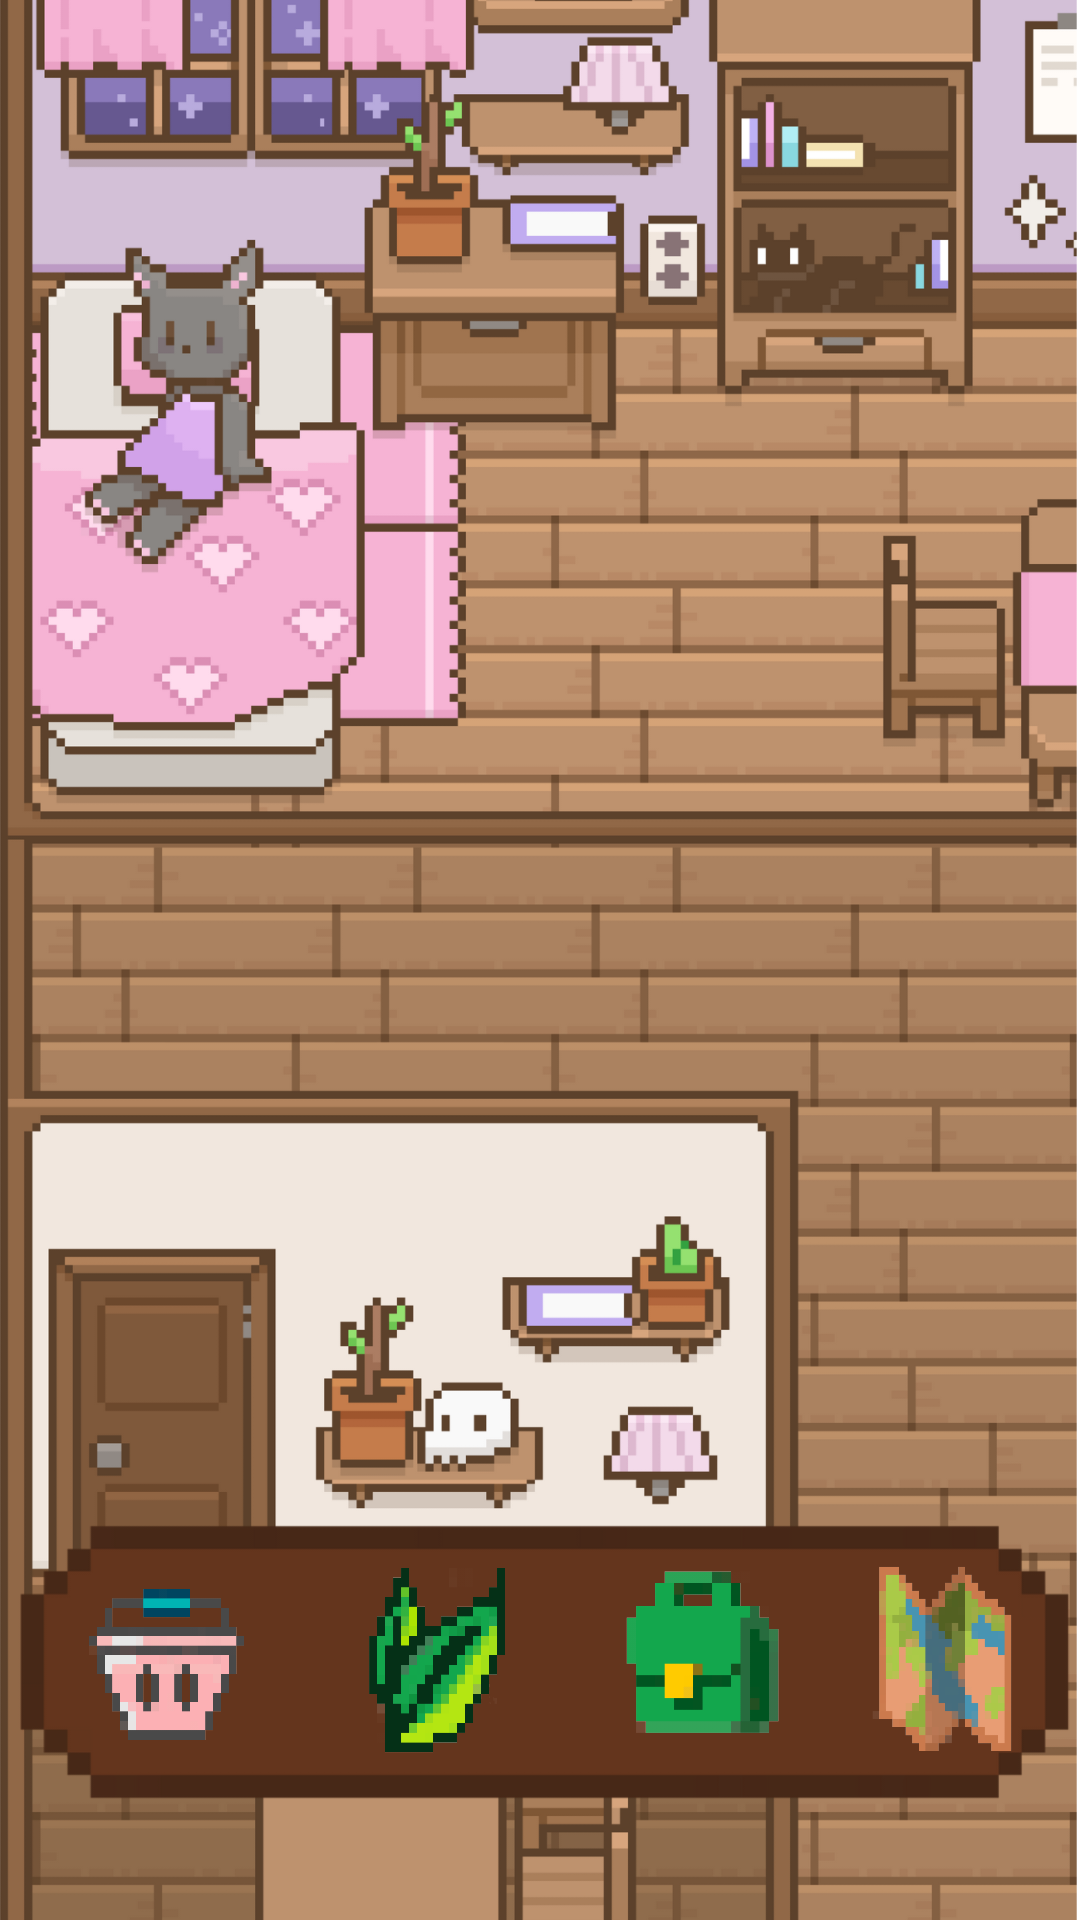

Named icons in this screenshot (1080x1920) and their centers, (x=x, y=y):
grow: (x=435, y=1657)
inventory: (x=705, y=1657)
map: (x=945, y=1657)
shop: (x=165, y=1657)
